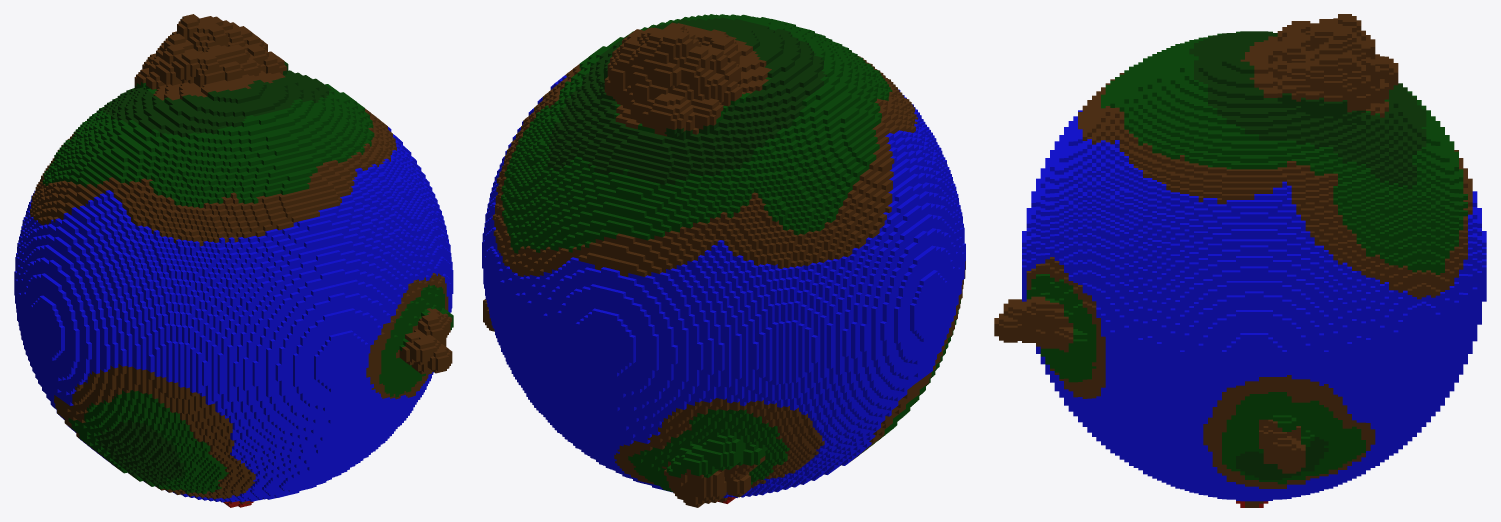
Rendered from world.obj.
3 renders of one model, left to right at view 1: azimuth 30°, elevation 25°; view 2: azimuth 150°, elevation 25°; view 3: azimuth 270°, elevation 25°, orthographic. The views are drawn at different scales.
Size of the model in its own units: 103 by 115 by 106.
Materials: 1 (1 with a texture image).
